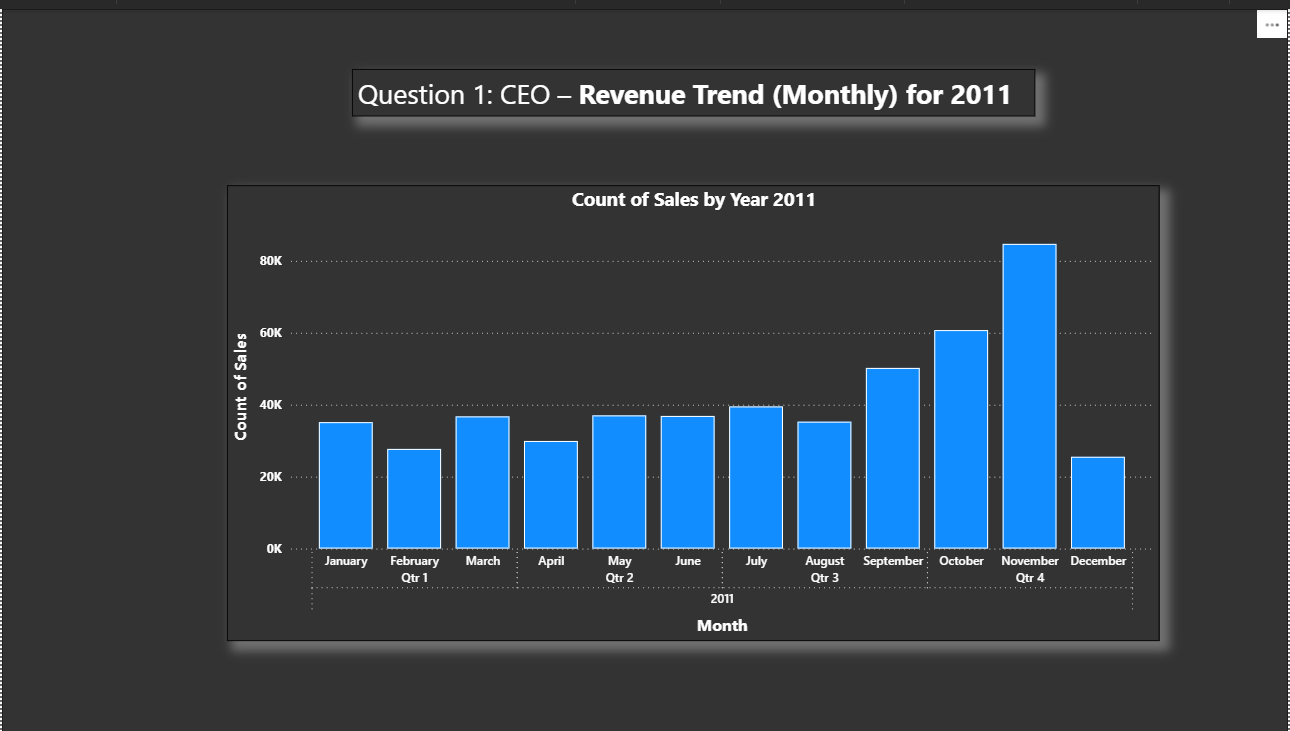

The page's visual inventory and layout, read from the dashboard file:
{"tool":"powerbi","page":{"name":"Page 1","canvas":[1280,720],"ordinal":0},"visuals":[{"type":"shape","box":[0,0,1280,720],"z":0},{"type":"textbox","box":[347.8,59.8,680.3,47.3],"z":2000},{"type":"columnChart","title":"Count of Sales by Year 2011","fields":{"Y":["CountNonNull(Online Retail.Sales)"],"Category":["Online Retail.InvoiceDate.Variation.Date Hierarchy.Year","Online Retail.InvoiceDate.Variation.Date Hierarchy.Quarter","Online Retail.InvoiceDate.Variation.Date Hierarchy.Month"]},"box":[224,175.3,928,453.6],"z":3000}]}

Visuals, with their boxes in screenshot pixels (x1, y1, x2, y2), scaled from the page's 1280x720 canvas onto the 1290x731 screenshot:
shape: 0,0,1289,730
textbox: 351,61,1036,109
"Count of Sales by Year 2011" columnChart: 226,178,1161,639
